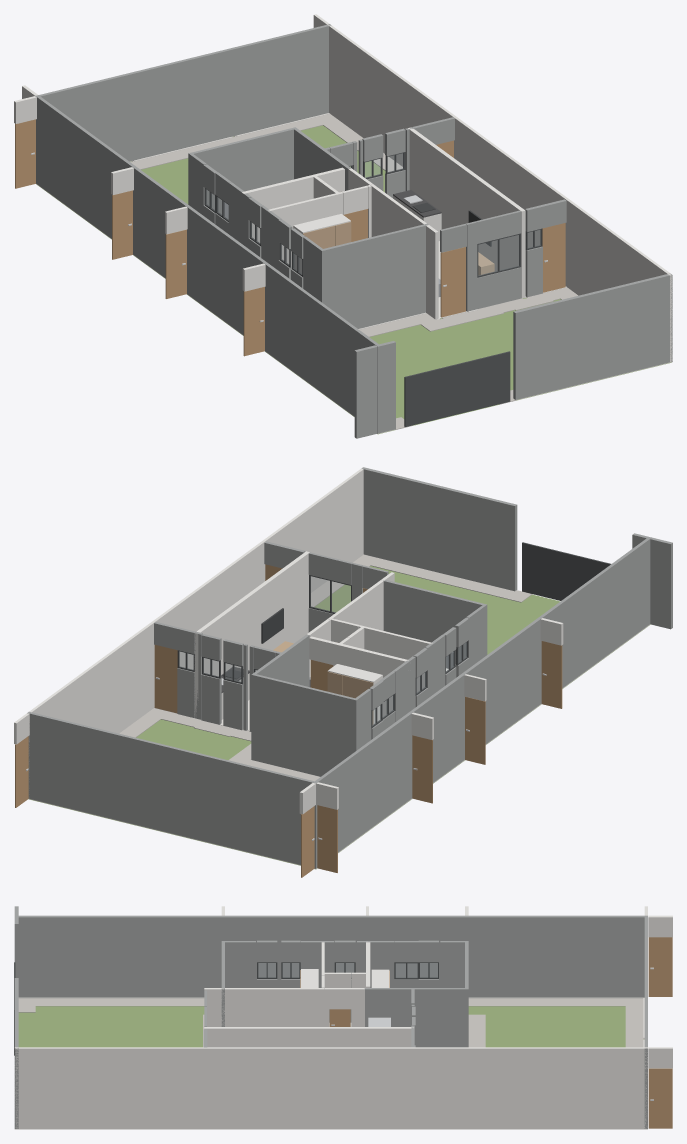
The model's file is casa.glb.
The picture shows the model from 3 angles, top to bottom: view 1: azimuth 30°, elevation 25°; view 2: azimuth 150°, elevation 25°; view 3: azimuth 270°, elevation 25°; orthographic projection. The views are drawn at different scales.
Visible parts, largest first — view 1: fachada, parede, grama, esquadria, concreto, vidro, door0_swing__porta, door3_swing__porta, door6_swing__porta, door7_swing__porta, door5_swing__porta, door4_swing__porta (+3 smaller); view 2: fachada, parede, grama, esquadria, concreto, vidro, door1_swing__porta, door7_swing__porta, door6_swing__porta, door4_swing__porta, door5_swing__porta, madeira (+5 smaller); view 3: parede, fachada, grama, concreto, door9_swing__porta, door8_swing__porta, piso, vidro, esquadria, armario, door10_swing__porta.
Part boxes in pixels (x1,y1,x2,y2): fachada: (35, 24, 672, 438); parede: (14, 14, 672, 362); grama: (36, 125, 671, 434); esquadria: (204, 152, 542, 426); concreto: (130, 114, 577, 429); vidro: (206, 153, 540, 275); door0_swing__porta: (440, 247, 465, 317); door3_swing__porta: (542, 223, 565, 292); door6_swing__porta: (165, 229, 186, 298); door7_swing__porta: (243, 287, 264, 356); door5_swing__porta: (112, 190, 132, 259); door4_swing__porta: (15, 119, 35, 188); fachada: (27, 467, 672, 868); parede: (14, 467, 563, 814); grama: (29, 566, 650, 869); esquadria: (177, 542, 610, 728); concreto: (119, 554, 532, 781); vidro: (179, 576, 466, 725); door1_swing__porta: (154, 645, 177, 713); door7_swing__porta: (541, 641, 562, 708); door6_swing__porta: (465, 696, 485, 764); door4_swing__porta: (317, 805, 337, 872); door5_swing__porta: (412, 735, 432, 803); madeira: (273, 641, 373, 724); parede: (14, 906, 672, 1128); fachada: (14, 906, 647, 1128); grama: (18, 1006, 644, 1047); concreto: (18, 998, 644, 1047); door9_swing__porta: (648, 1068, 672, 1128); door8_swing__porta: (648, 937, 672, 996); piso: (14, 997, 647, 1129); vidro: (258, 963, 437, 977); esquadria: (14, 962, 438, 1055); armario: (301, 969, 389, 987); door10_swing__porta: (329, 1009, 350, 1026).
Size of the model in its own units: 10.68 by 2.83 by 20.83.
